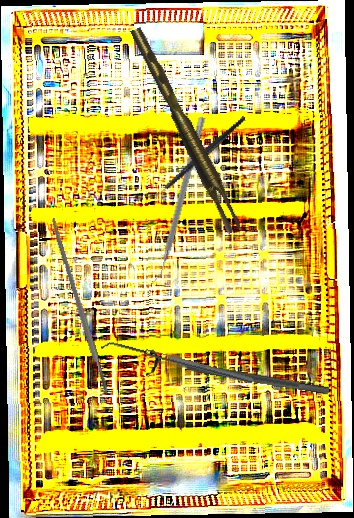Chopper: (134, 115, 264, 209)
Fixation Ring: (145, 347, 332, 406)
Scalpel Handle: (48, 216, 110, 394)
Spatula Surgical: (150, 114, 206, 286), (100, 337, 254, 390)
Tissue Forceps: (130, 22, 243, 237)
